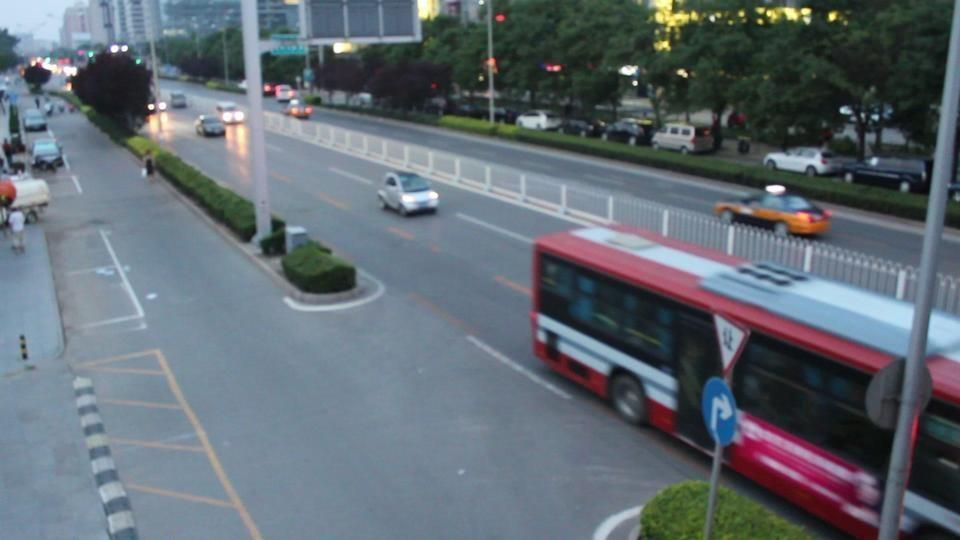car: (713, 185, 832, 238), (828, 157, 930, 193), (377, 172, 440, 218), (763, 147, 846, 178), (1, 172, 50, 223), (651, 124, 718, 155), (603, 120, 654, 146), (29, 138, 62, 172), (516, 111, 562, 131), (558, 119, 598, 138), (215, 102, 245, 124), (195, 116, 225, 138), (24, 111, 48, 133), (285, 101, 314, 119), (275, 85, 296, 102), (169, 93, 187, 109)
